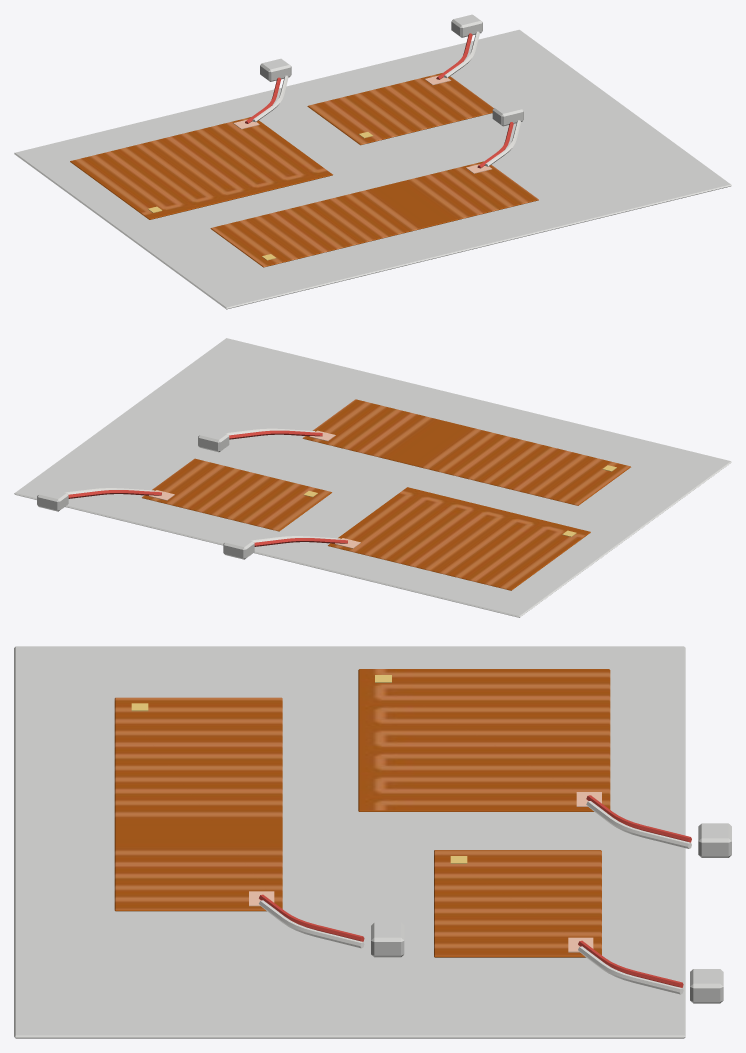
Rendered from heater_pads.glb.
The picture shows the model from 3 angles, top to bottom: view 1: azimuth 30°, elevation 25°; view 2: azimuth 150°, elevation 25°; view 3: azimuth 270°, elevation 25°; orthographic projection. The views are drawn at different scales.
Parts seen in each view (by area): view 1: heater_pads; view 2: heater_pads; view 3: heater_pads.
Boxes of the visible parts, x1,y1,x2,y2 form: heater_pads: (14, 14, 731, 309); heater_pads: (14, 338, 731, 617); heater_pads: (14, 646, 731, 1038).
Bounding box in the file's own units: 0.11 × 0.0036 × 0.0855.
Materials: 6 (1 with a texture image).
